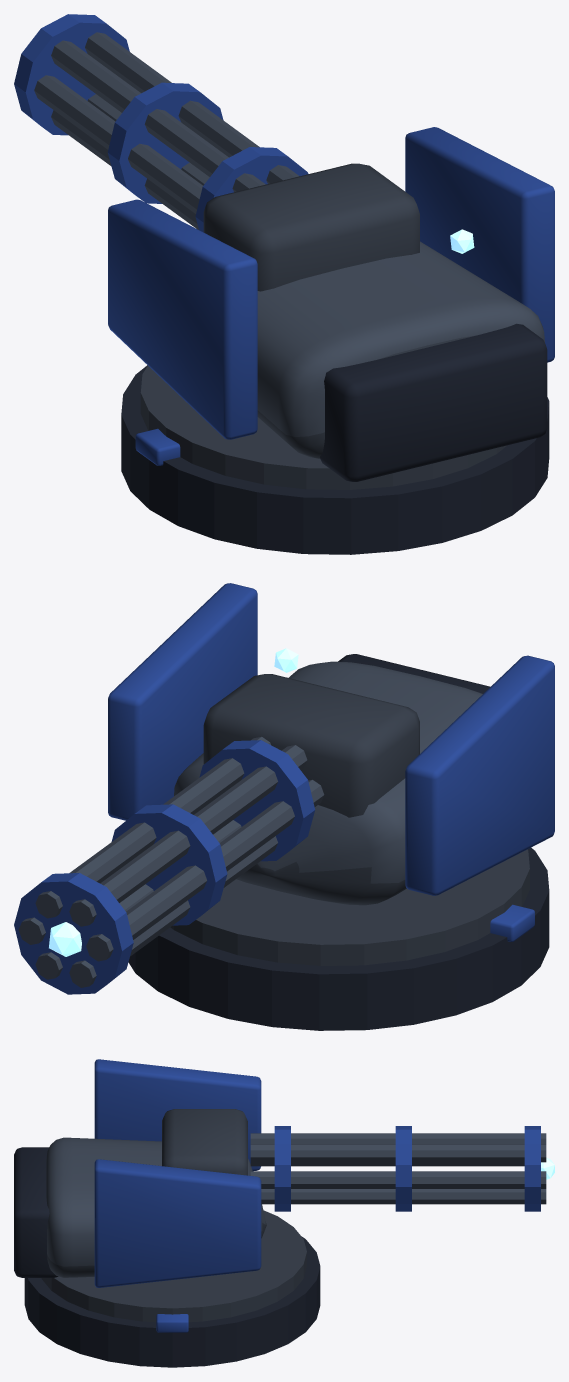
The model's file is turret_ion_repeaters.glb.
3 renders of one model, top to bottom at view 1: azimuth 30°, elevation 25°; view 2: azimuth 150°, elevation 25°; view 3: azimuth 270°, elevation 25°, orthographic. The views are drawn at different scales.
Visible parts, largest first — view 1: Yaw_mesh, Pitch_mesh, Base_mesh; view 2: Yaw_mesh, Pitch_mesh, Base_mesh; view 3: Yaw_mesh, Pitch_mesh, Base_mesh.
Boxes of the visible parts, bbox=[...] form: Yaw_mesh: bbox=[108, 127, 554, 481]; Pitch_mesh: bbox=[14, 14, 419, 291]; Base_mesh: bbox=[121, 365, 549, 554]; Yaw_mesh: bbox=[108, 583, 554, 905]; Pitch_mesh: bbox=[14, 674, 419, 994]; Base_mesh: bbox=[128, 848, 549, 1030]; Yaw_mesh: bbox=[14, 1059, 266, 1287]; Pitch_mesh: bbox=[162, 1109, 554, 1211]; Base_mesh: bbox=[24, 1210, 320, 1367].
Size of the model in its own units: 1.12 by 0.7881 by 2.01.
